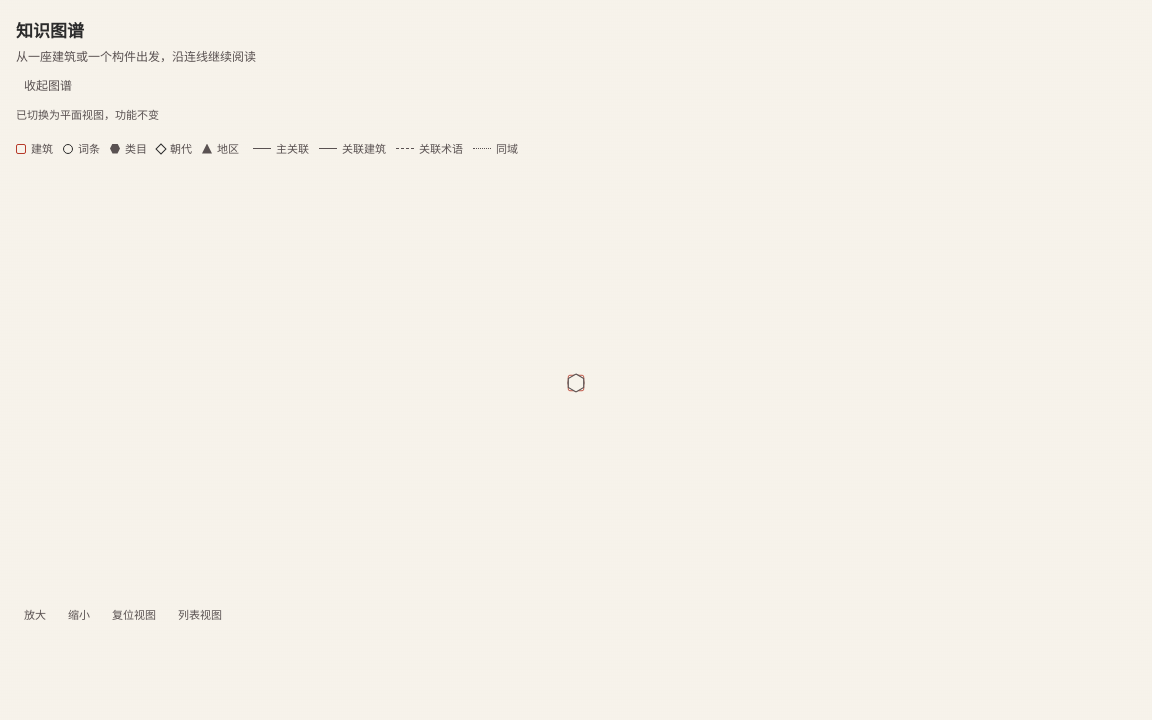
Test: EncyclopediaKnowledgeGraph › C-13 复位视图回到初始 viewBox
Step 1. Click the button "放大" → [35, 614], box 16,603 -> 54,625
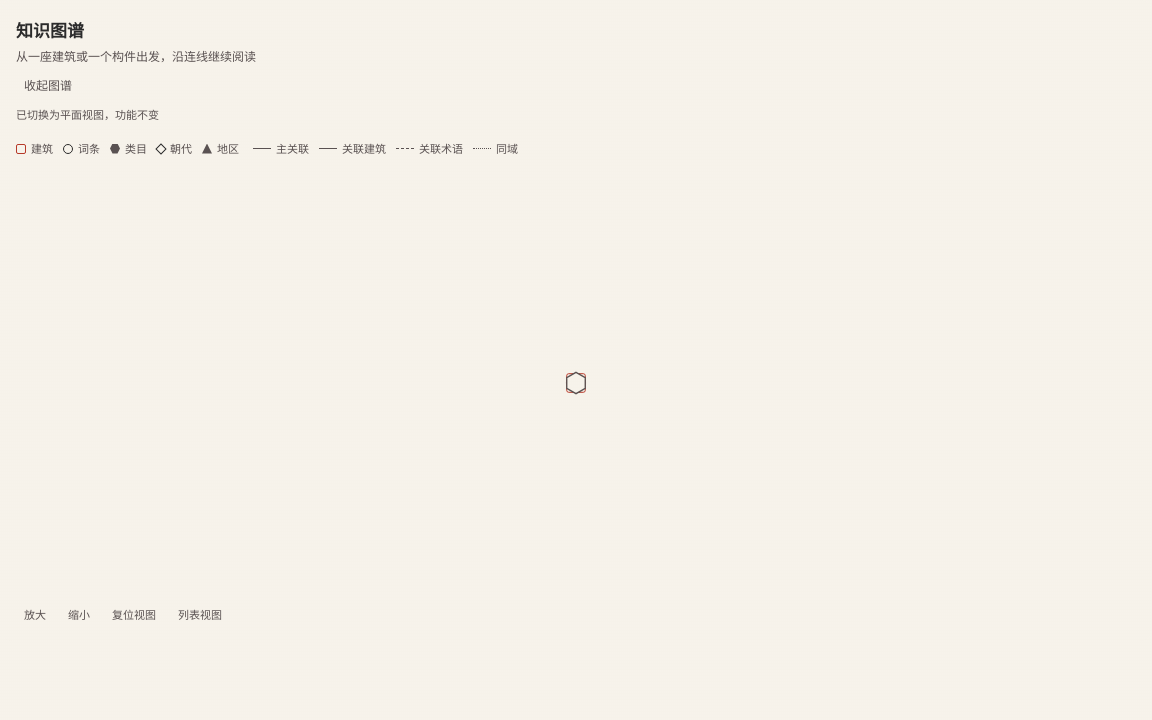
expect the icon named "知识图谱" does not have attribute viewBox="0 0 1000 760": met, box 16,173 -> 1136,593
Step 2. Click the button "复位视图" → [134, 614], box 104,603 -> 164,625
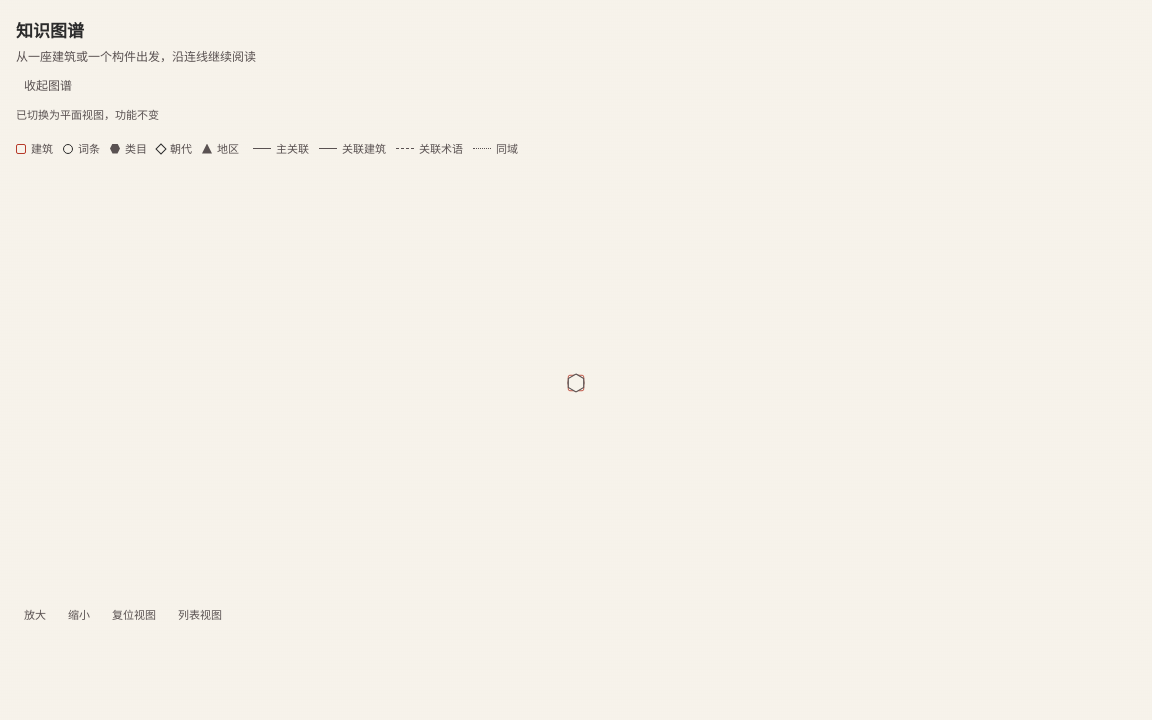
expect the icon named "知识图谱" has attribute viewBox="0 0 1000 760": met, box 16,173 -> 1136,593
